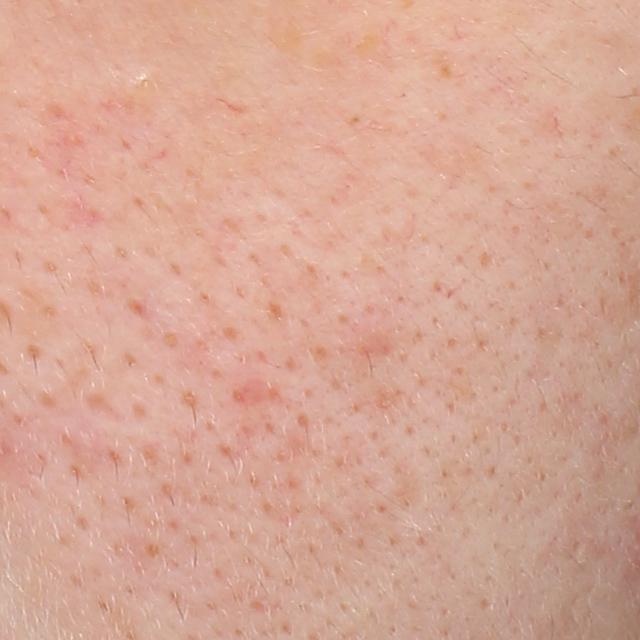atrophic_scar: (74, 389, 127, 431)
comedo: (135, 72, 151, 90)
